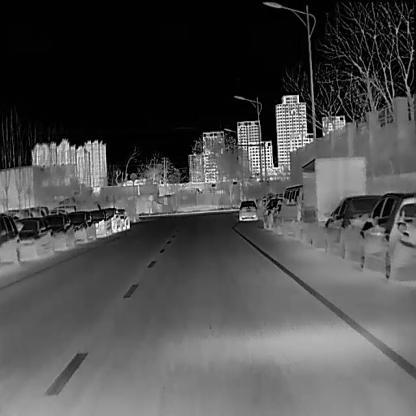car: (295, 155, 366, 250), (357, 193, 416, 281), (322, 195, 380, 259), (15, 215, 54, 261), (276, 184, 304, 241), (41, 212, 74, 250), (0, 212, 20, 262), (67, 210, 95, 242), (89, 209, 111, 237), (103, 207, 123, 233), (261, 197, 276, 230), (238, 199, 258, 220), (116, 207, 129, 230)
